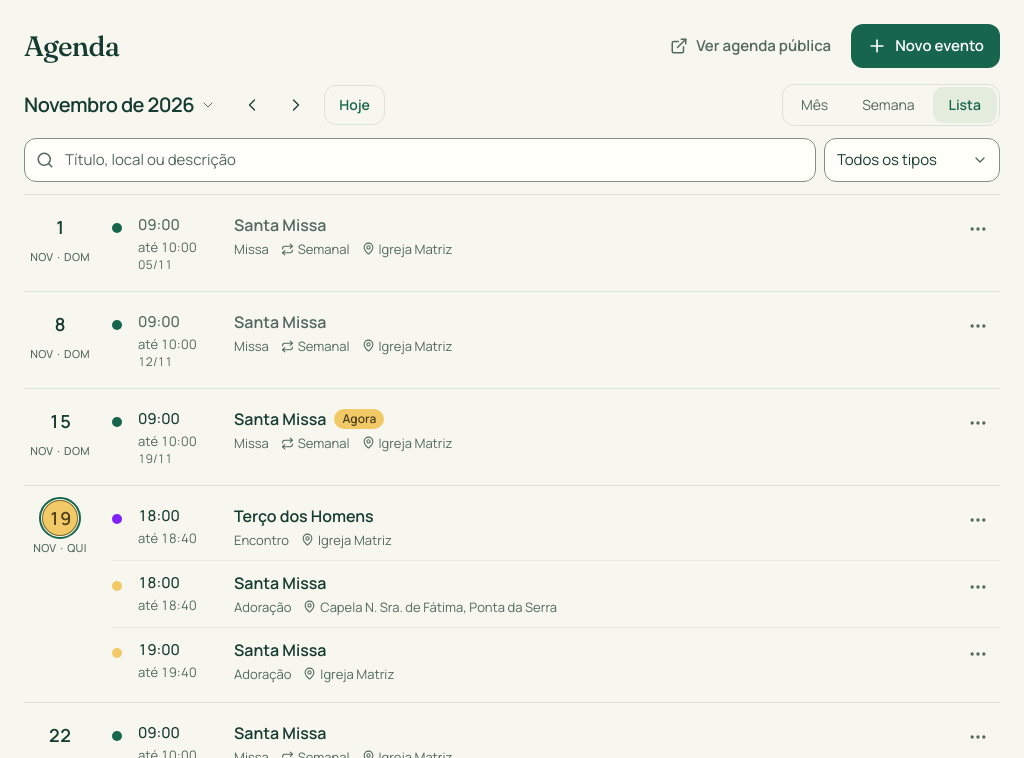
Test case: AdminCalendarPage › mostra o erro e mantém a confirmação para tentar novamente
The width and height of the screenshot is (1024, 758).
What coordinates should you click on to do the following:
click the button named "Mais ações: Terço dos Homens"
I would click on:
 (978, 520)
Its box is [956,498,1000,542].
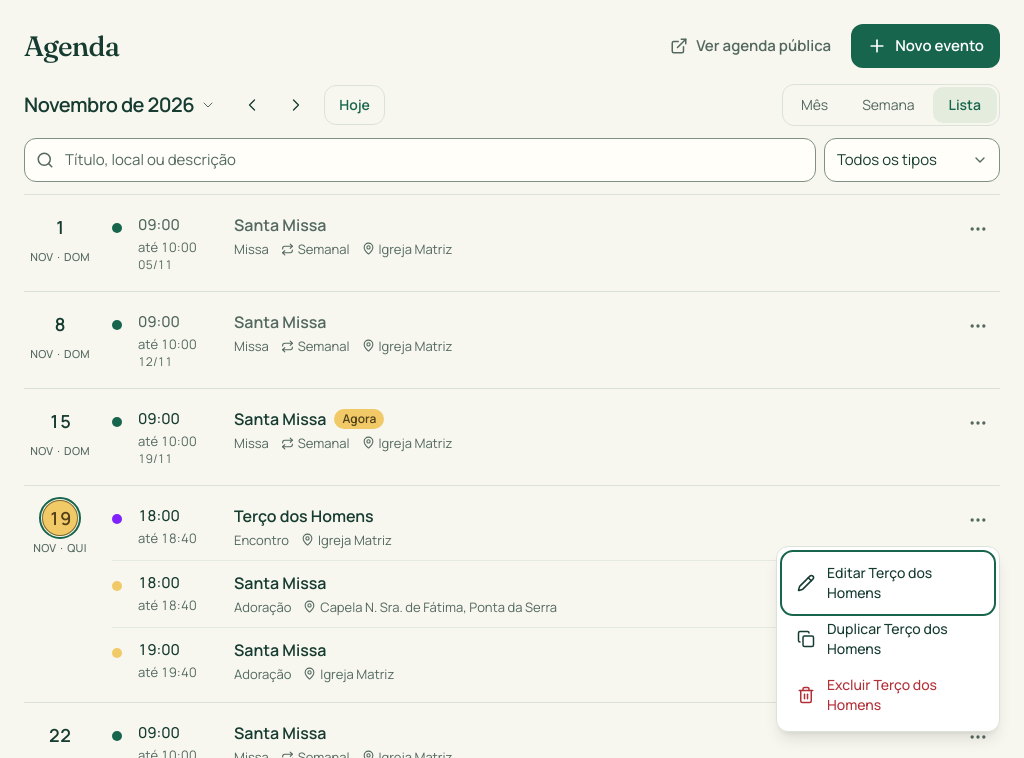
What coordinates should you click on to do the following:
click the menu item "Excluir Terço dos Homens"
I would click on:
 (888, 695)
Its box is [785,667,991,723].
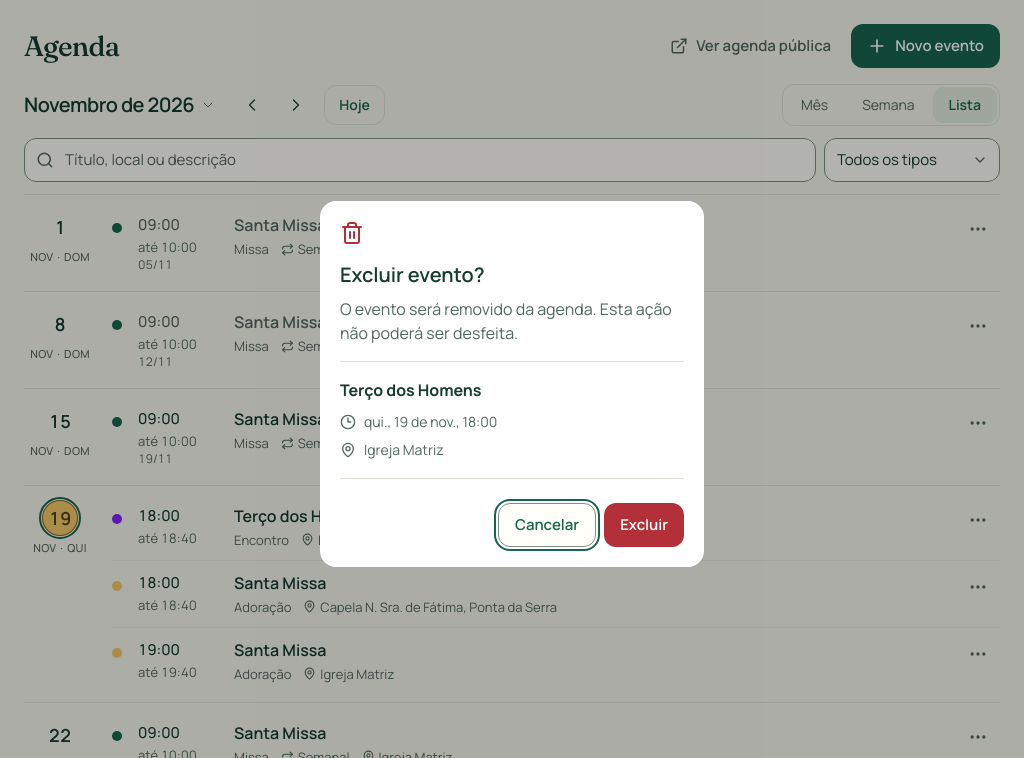
What coordinates should you click on to do the following:
click the button "Excluir"
I would click on:
 (644, 525)
Its box is [604,503,684,547].
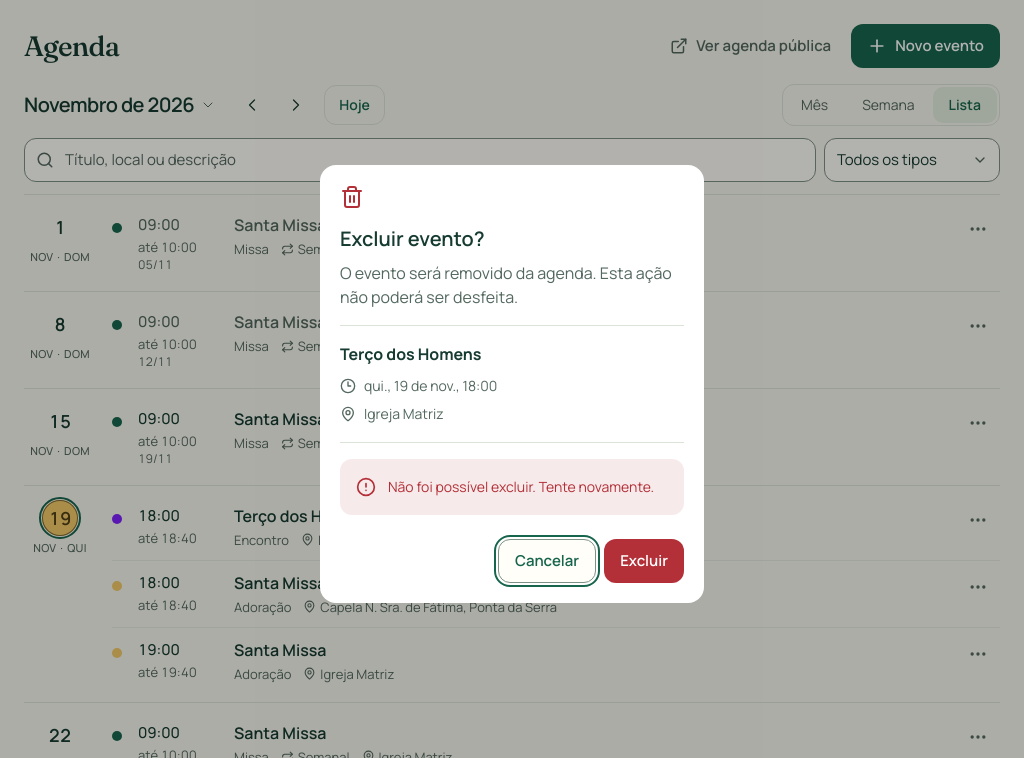
expect the dialog is shown: met, box [320,165,704,603]
expect the button "Excluir" is enabled: met, box [604,539,684,583]
expect the text "Não foi possível excluir. Tente novamente." is shown: met, box [388,475,668,499]
